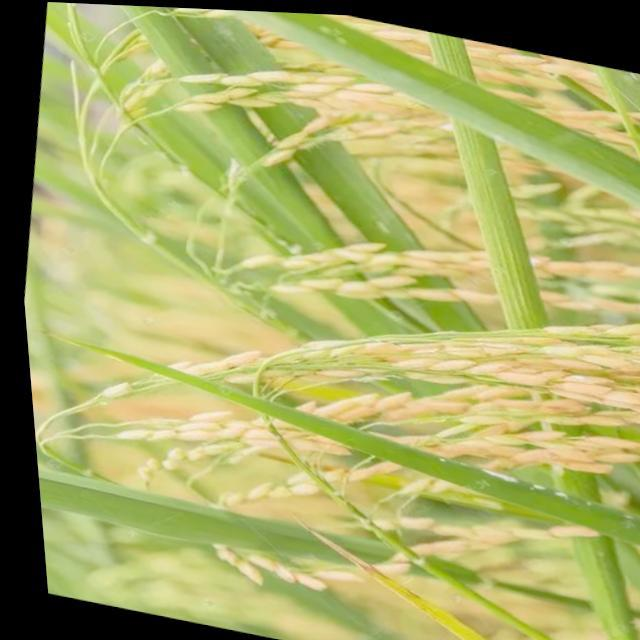Padi: (72, 26, 612, 322), (120, 344, 640, 518)
